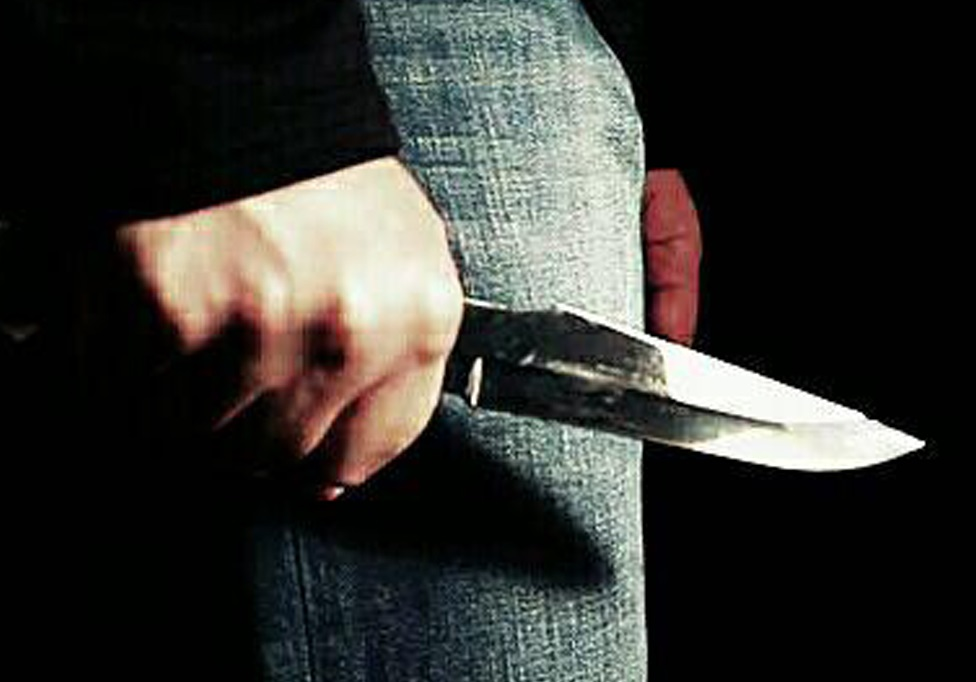knife: (208, 283, 941, 505)
